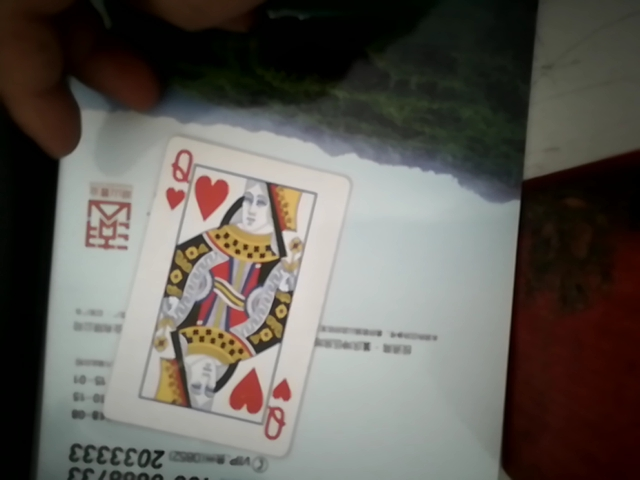hx q: (125, 138, 337, 456)
